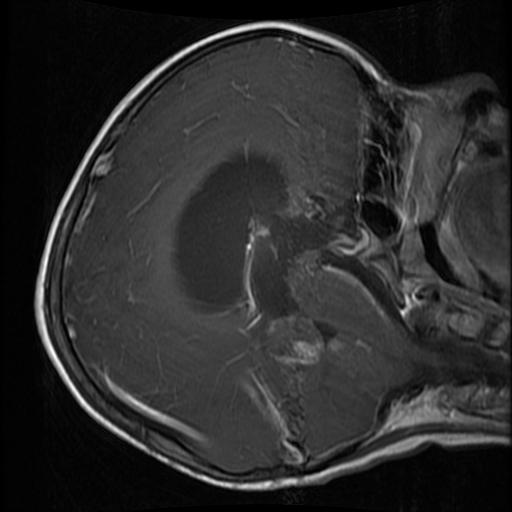glioma: (172, 154, 359, 323)
